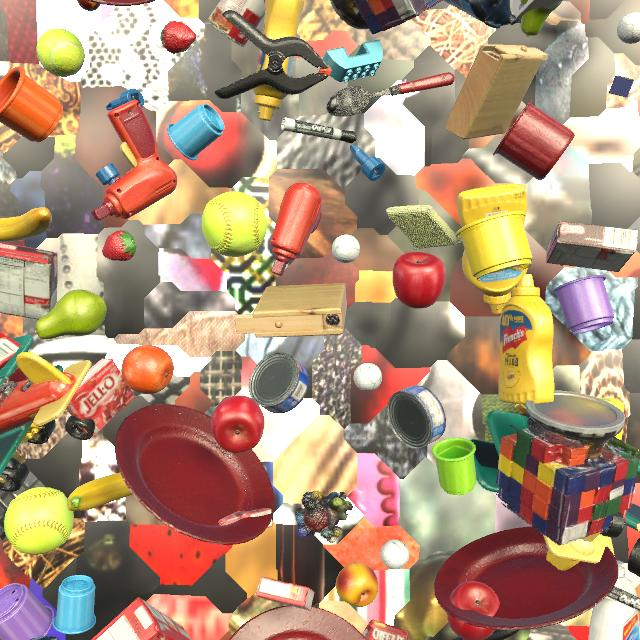ycb_003_cracker_box: (91, 597, 192, 640), (0, 332, 27, 383), (362, 619, 408, 640)
ycb_004_sugar_box: (597, 397, 624, 440), (512, 0, 562, 23)
ycb_005_tomato_soup_can: (208, 0, 266, 47)
ycb_006_mustard_bottle: (457, 184, 528, 314), (498, 274, 554, 405), (253, 0, 305, 121)
ycb_007_tuna_fish_can: (387, 385, 446, 449), (249, 352, 309, 414)
ycb_008_pudding_box: (546, 221, 638, 272), (0, 242, 58, 320)
ycb_009_gelatin_box: (67, 358, 135, 436), (256, 576, 314, 611), (218, 508, 273, 528)
ycb_011_banana: (67, 472, 133, 511), (0, 207, 52, 242)
ycb_012_strawberry: (160, 21, 196, 54), (102, 230, 137, 261)
ycb_013_apple: (447, 581, 500, 640), (392, 252, 446, 309), (211, 395, 264, 453)
ycb_015_peach: (336, 563, 378, 607)
ycb_016_pear: (34, 290, 107, 339), (521, 0, 563, 36)
ycb_017_orange: (122, 345, 174, 394)
